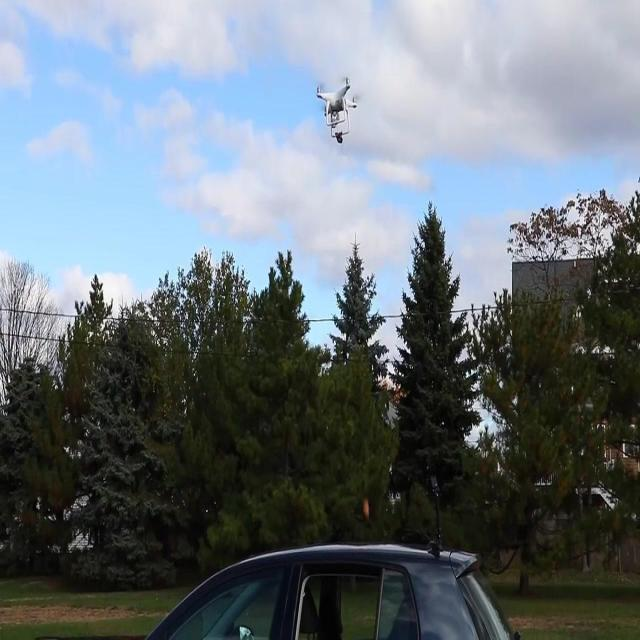drone: (315, 74, 359, 142)
